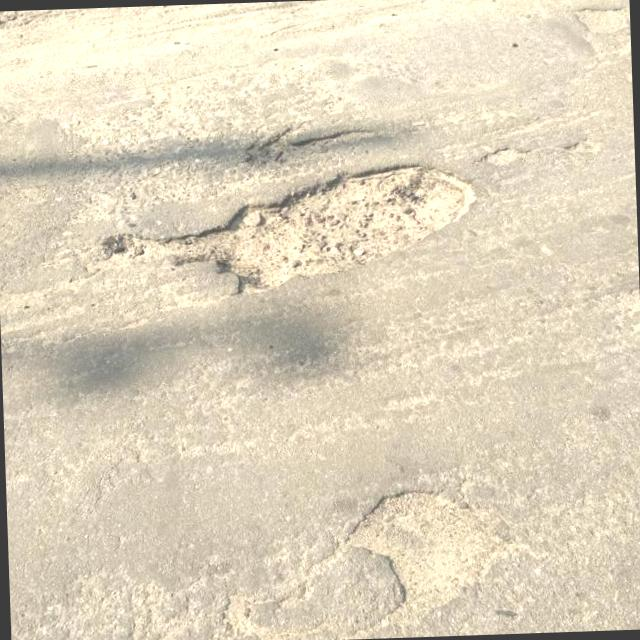pothole: (97, 156, 484, 302), (342, 483, 498, 630), (240, 120, 384, 170), (570, 0, 630, 36), (482, 142, 531, 167)
